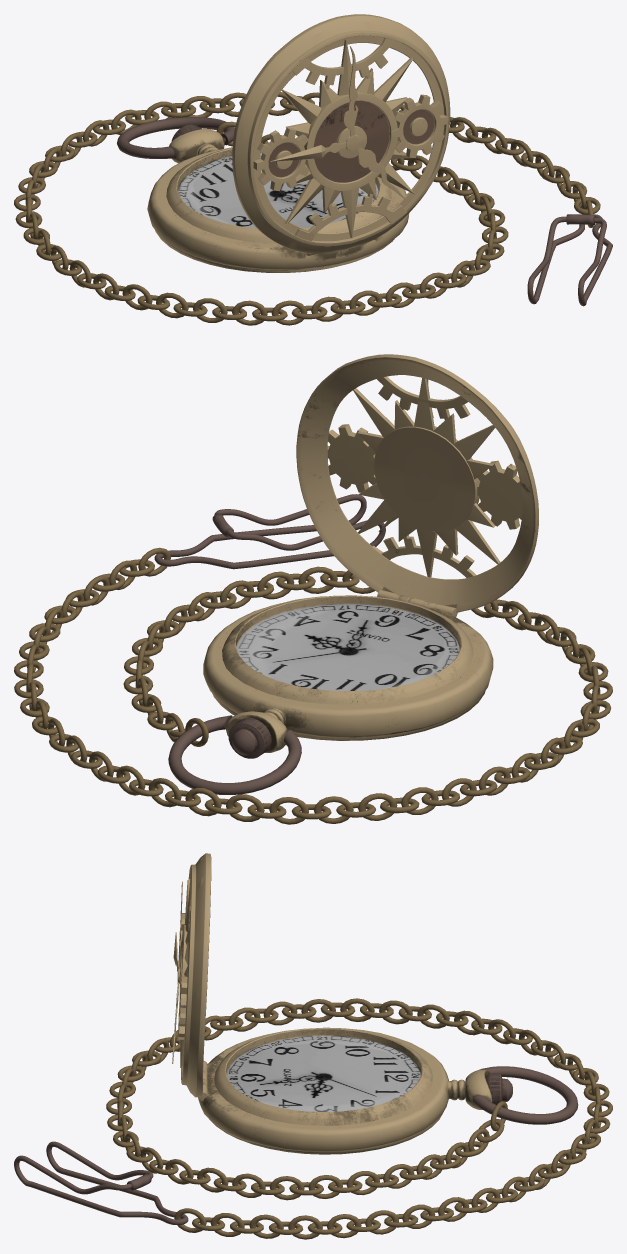
Rendered from clock.fbx.
3 renders of one model, top to bottom at view 1: azimuth 30°, elevation 25°; view 2: azimuth 150°, elevation 25°; view 3: azimuth 270°, elevation 25°, orthographic. The views are drawn at different scales.
Parts seen in each view (by area): view 1: polySurface2269, GlassHolder_lo, MiddleBasePiece_lo, polySurface2274, polySurface2265, ChainPin_lo, polySurface2256, ChainRing_lo, polySurface2251, polySurface2268, Backing_lo, polySurface2272 (+7 smaller); view 2: GlassHolder_lo, polySurface2269, MiddleBasePiece_lo, polySurface2274, ChainPin_lo, ChainRing_lo, polySurface2265, polySurface2256, polySurface2251, polySurface2268, TopGear_lo, Backing_lo (+2 smaller); view 3: GlassHolder_lo, MiddleBasePiece_lo, polySurface2269, ChainPin_lo, ChainRing_lo, Backing_lo.
Part boxes in pixels (x1,y1,x2,y2): polySurface2269: (232,14,450,253); GlassHolder_lo: (166,143,391,243); MiddleBasePiece_lo: (147,129,409,269); polySurface2274: (304,92,397,190); polySurface2265: (390,94,447,158); ChainPin_lo: (527,214,612,306); polySurface2256: (253,127,309,191); ChainRing_lo: (117,117,234,158); polySurface2251: (292,37,401,89); polySurface2268: (295,194,406,241); Backing_lo: (155,230,394,272); polySurface2272: (343,46,358,136); GlassHolder_lo: (222,595,473,704); polySurface2269: (296,354,538,612); MiddleBasePiece_lo: (203,590,493,752); polySurface2274: (374,426,480,531); ChainPin_lo: (154,494,385,569); ChainRing_lo: (168,715,301,794); polySurface2265: (327,424,376,492); polySurface2256: (477,460,522,529); polySurface2251: (377,376,470,420); polySurface2268: (372,535,476,577); TopGear_lo: (228,717,271,758); Backing_lo: (212,691,485,740); GlassHolder_lo: (214,1028,432,1125); MiddleBasePiece_lo: (198,1027,492,1151); polySurface2269: (181,853,211,1097); ChainPin_lo: (14,1141,188,1225); ChainRing_lo: (473,1066,578,1124); Backing_lo: (209,1114,442,1154).
Bounding box in the file's own units: 621 × 320 × 685.
